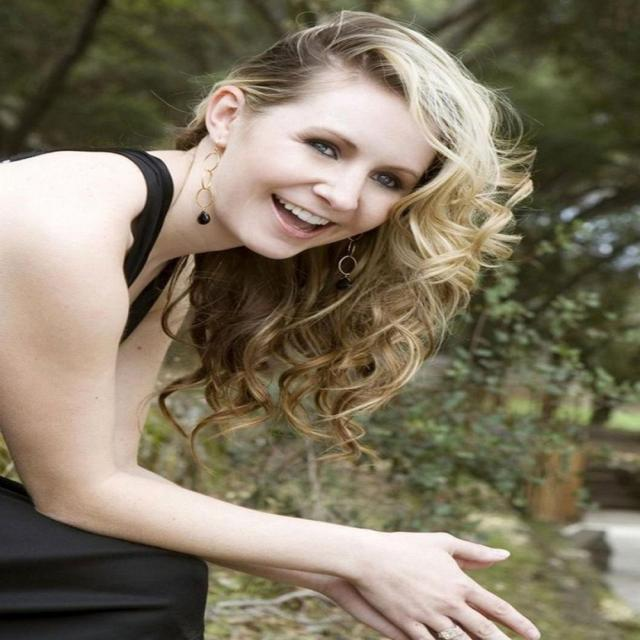no-earmuff: (190, 74, 258, 152)
